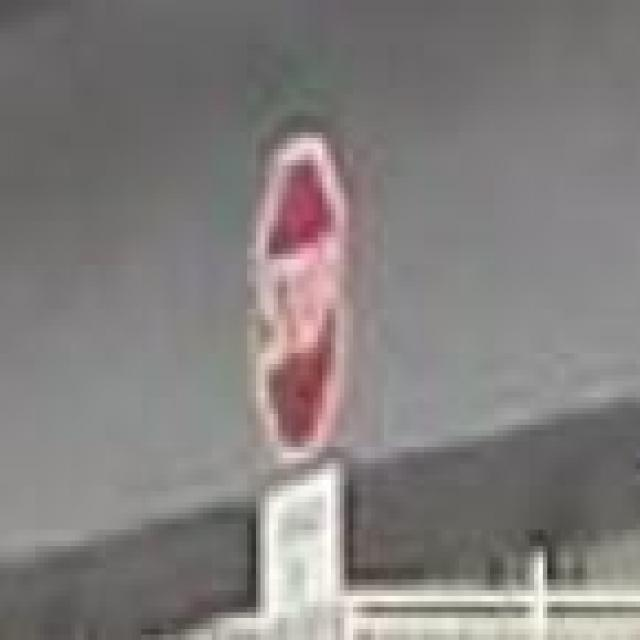traffic sign: (247, 160, 348, 458)
